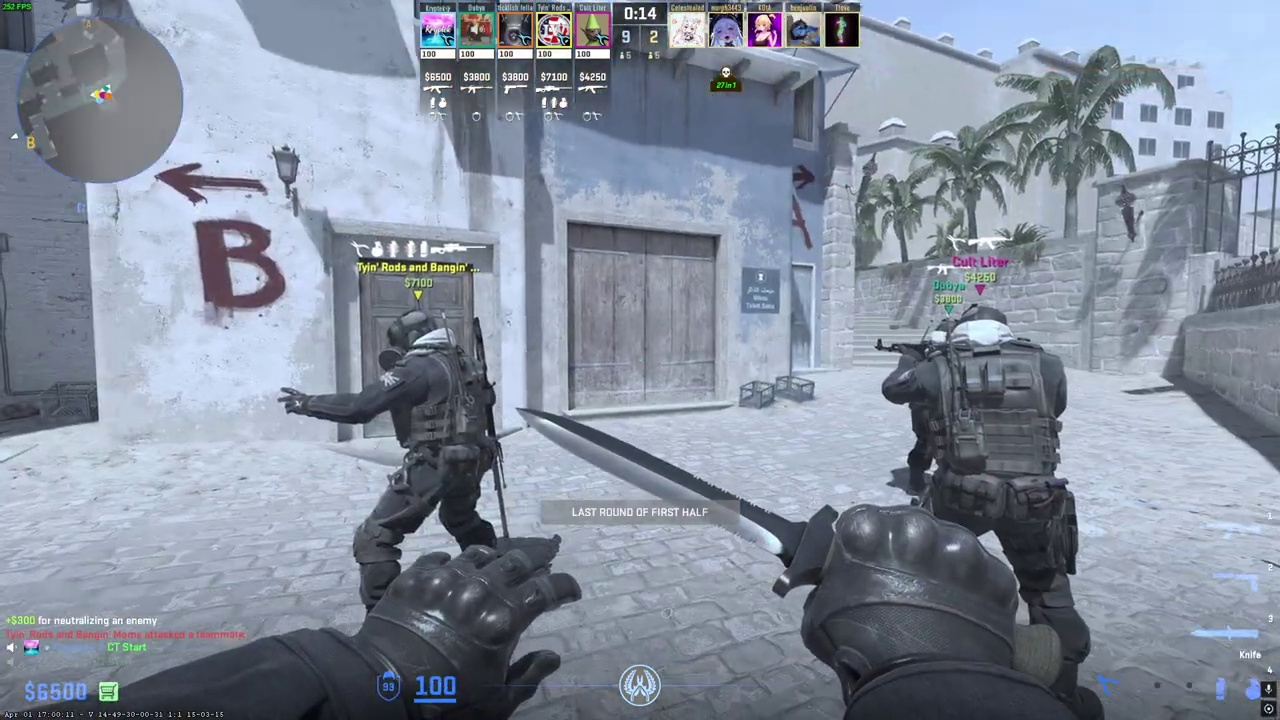CT: (890, 303, 1090, 686), (340, 308, 498, 618)
